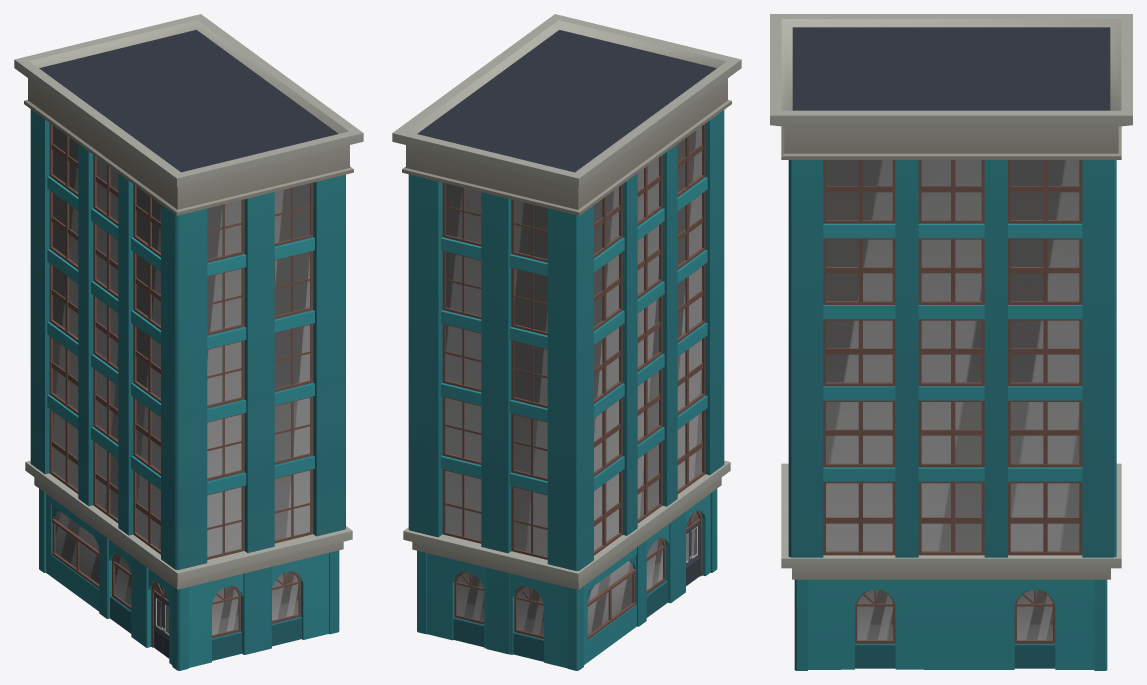
The model's file is Building_27_C.fbx.
The picture shows the model from 3 angles, left to right: view 1: azimuth 30°, elevation 25°; view 2: azimuth 150°, elevation 25°; view 3: azimuth 270°, elevation 25°; orthographic projection. The views are drawn at different scales.
Parts seen in each view (by area): view 1: Building_27_C; view 2: Building_27_C; view 3: Building_27_C.
Part boxes in pixels (x1,y1,x2,y2): Building_27_C: (14, 14, 363, 670); Building_27_C: (392, 14, 741, 670); Building_27_C: (770, 14, 1132, 670).
Bounding box in the file's own units: 765 × 1974 × 1155.
